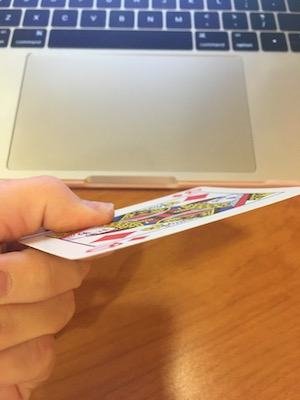QueenOfDiamonds: (1, 182, 298, 269)
